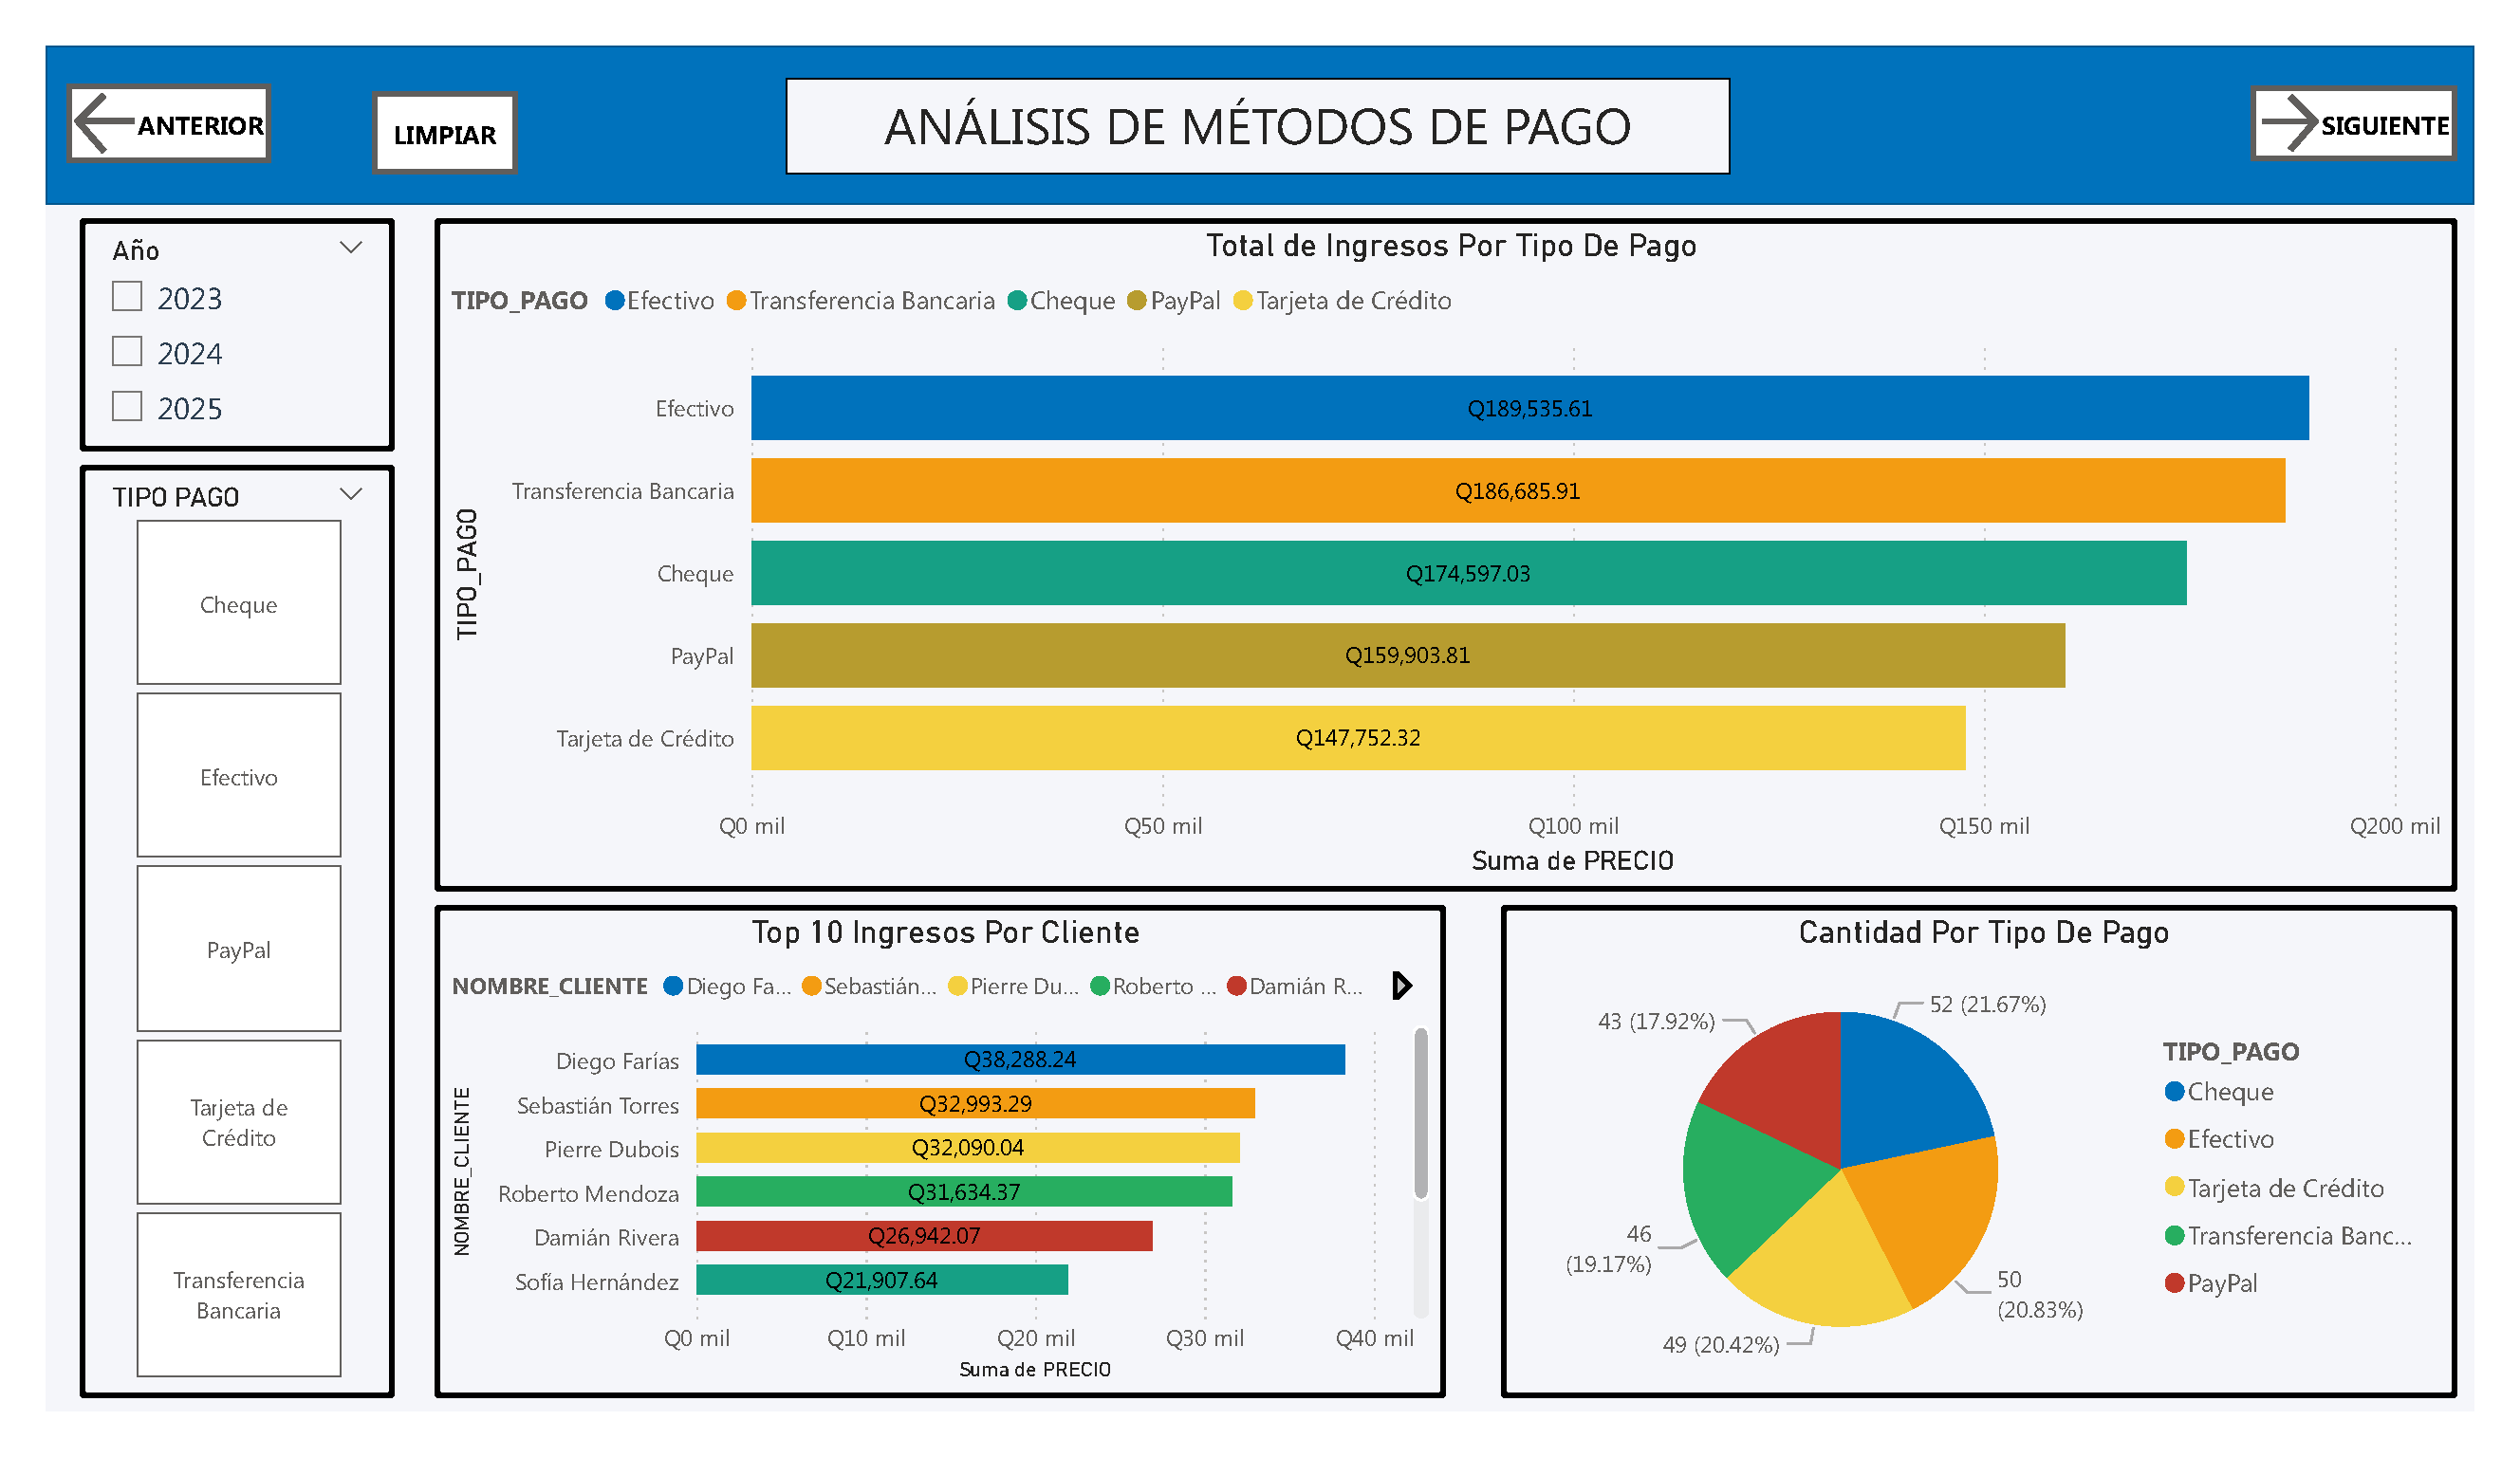

The page's visual inventory and layout, read from the dashboard file:
{"tool":"powerbi","page":{"name":"PAGOS","canvas":[1280,720],"ordinal":3},"visuals":[{"type":"barChart","title":"Total de Ingresos Por Tipo De Pago","fields":{"Category":["PAGOS1.TIPO_PAGO"],"Y":["Sum(PAGOS1.PRECIO)"],"Series":["PAGOS1.TIPO_PAGO"]},"box":[204.6,91.3,1066,354.7],"z":0},{"type":"barChart","title":"Top 10 Ingresos Por Cliente","fields":{"Category":["PAGOS REALIZADOS.NOMBRE_CLIENTE"],"Y":["Sum(PAGOS REALIZADOS.PRECIO)"],"Series":["PAGOS REALIZADOS.NOMBRE_CLIENTE"]},"box":[204.6,453.1,533.9,259.9],"z":1000},{"type":"slicer","fields":{"Values":["PAGOS1.TIPO_PAGO"]},"box":[18.4,221.3,166,491.7],"z":2000},{"type":"pieChart","title":"Cantidad Por Tipo De Pago","fields":{"Category":["VENTA5.TIPO_PAGO"],"Y":["Sum(VENTA5.VECES_USADO)"]},"box":[767.4,453.1,503.1,259.9],"z":3000},{"type":"shape","box":[0,0,1280,83.8],"z":4000},{"type":"textbox","box":[390,16.7,498.3,51.7],"z":5000},{"type":"slicer","fields":{"Values":["RESERVACION.FECHA.Variación.Jerarquía de fechas.Año"]},"box":[18.4,91.3,166,122.9],"z":6000},{"type":"actionButton","box":[1161.7,21.1,108.9,39.5],"z":7000},{"type":"actionButton","title":"Atras","box":[11.4,20.2,108,42.1],"z":8000},{"type":"actionButton","box":[172.1,23.7,77.3,44.8],"z":9000}]}

Visuals, with their boxes in screenshot pixels (x1, y1, x2, y2), scaled from the page's 1280x720 canvas onto the 2520x1457 screenshot:
"Total de Ingresos Por Tipo De Pago" barChart: 403,185,2501,902
"Top 10 Ingresos Por Cliente" barChart: 403,917,1454,1443
slicer - PAGOS1.TIPO_PAGO: 36,448,363,1443
"Cantidad Por Tipo De Pago" pieChart: 1510,917,2501,1443
shape: 0,0,2519,170
textbox: 768,34,1749,138
slicer - RESERVACION.FECHA.Variación.Jerarquía de fechas.Año: 36,185,363,433
actionButton: 2288,43,2501,122
"Atras" actionButton: 23,41,235,126
actionButton: 339,48,491,138
